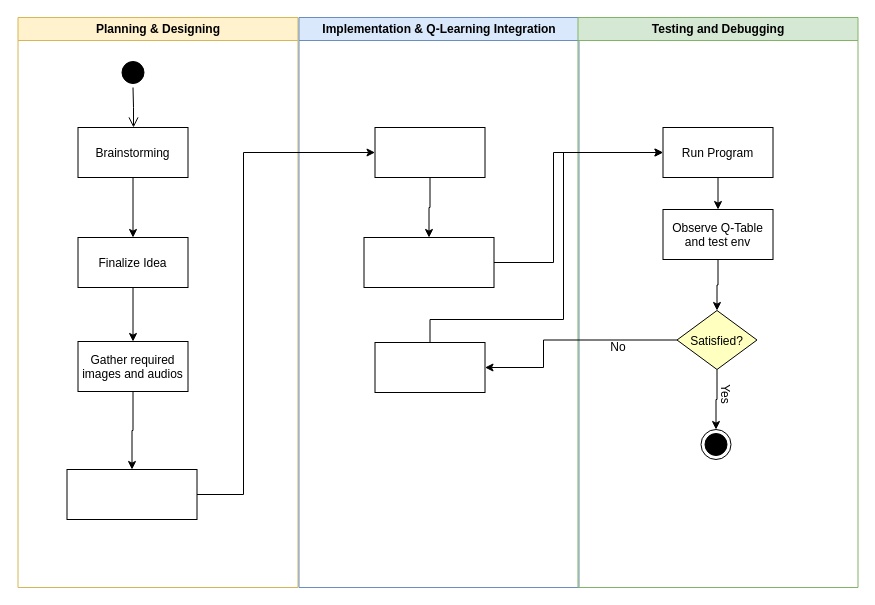
Image size: 875x605. Some labels were removed from this diagram. Here are the shapes that lost their labels. From the top down, the centre of each, then its label:
point 429,152: Implement Reward
point 428,262: Integrate Q-Learning
point 429,367: Reshaping Reward
point 131,494: Design Env (pygame)
